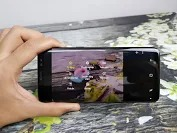samsung: (35, 44, 160, 104)
